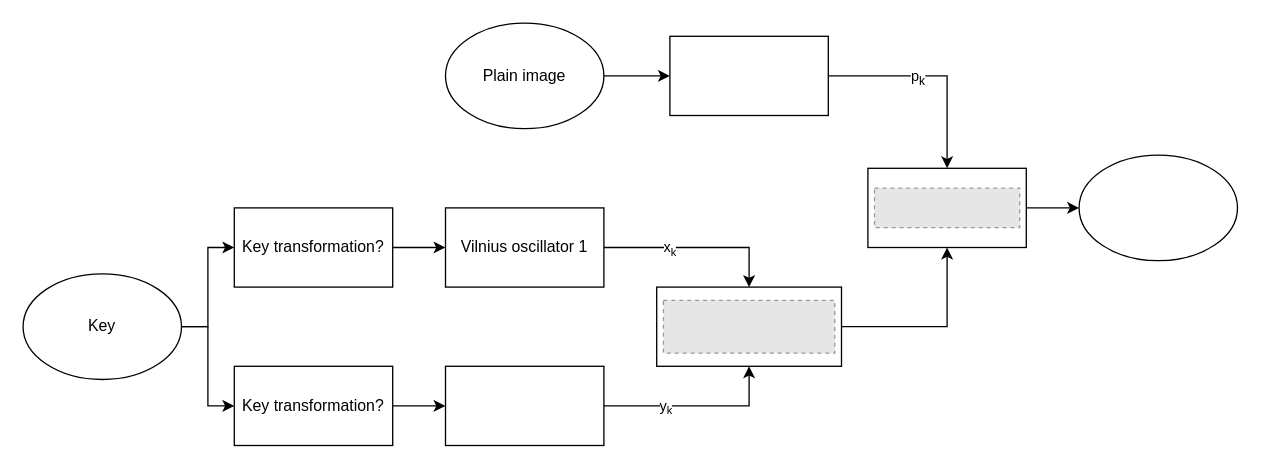
This 1261x469 diagram has some shape labels left out. Grey dashed boxes stand in for pictures. The shapes that lost their labels are listed below. From the top down, each one's centre as x and y in pixels, then its label:
At point (748, 75): "Convert to 1D".
At point (1158, 207): "Cipher image".
At point (524, 405): "Vilnius oscillator 2".
